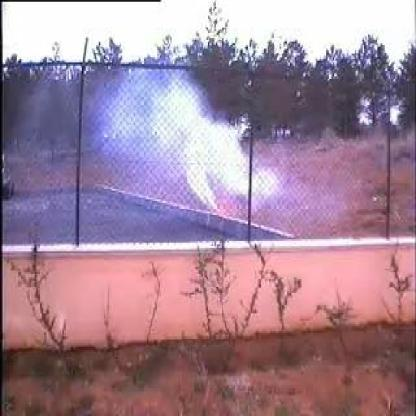-: (82, 58, 277, 233)
